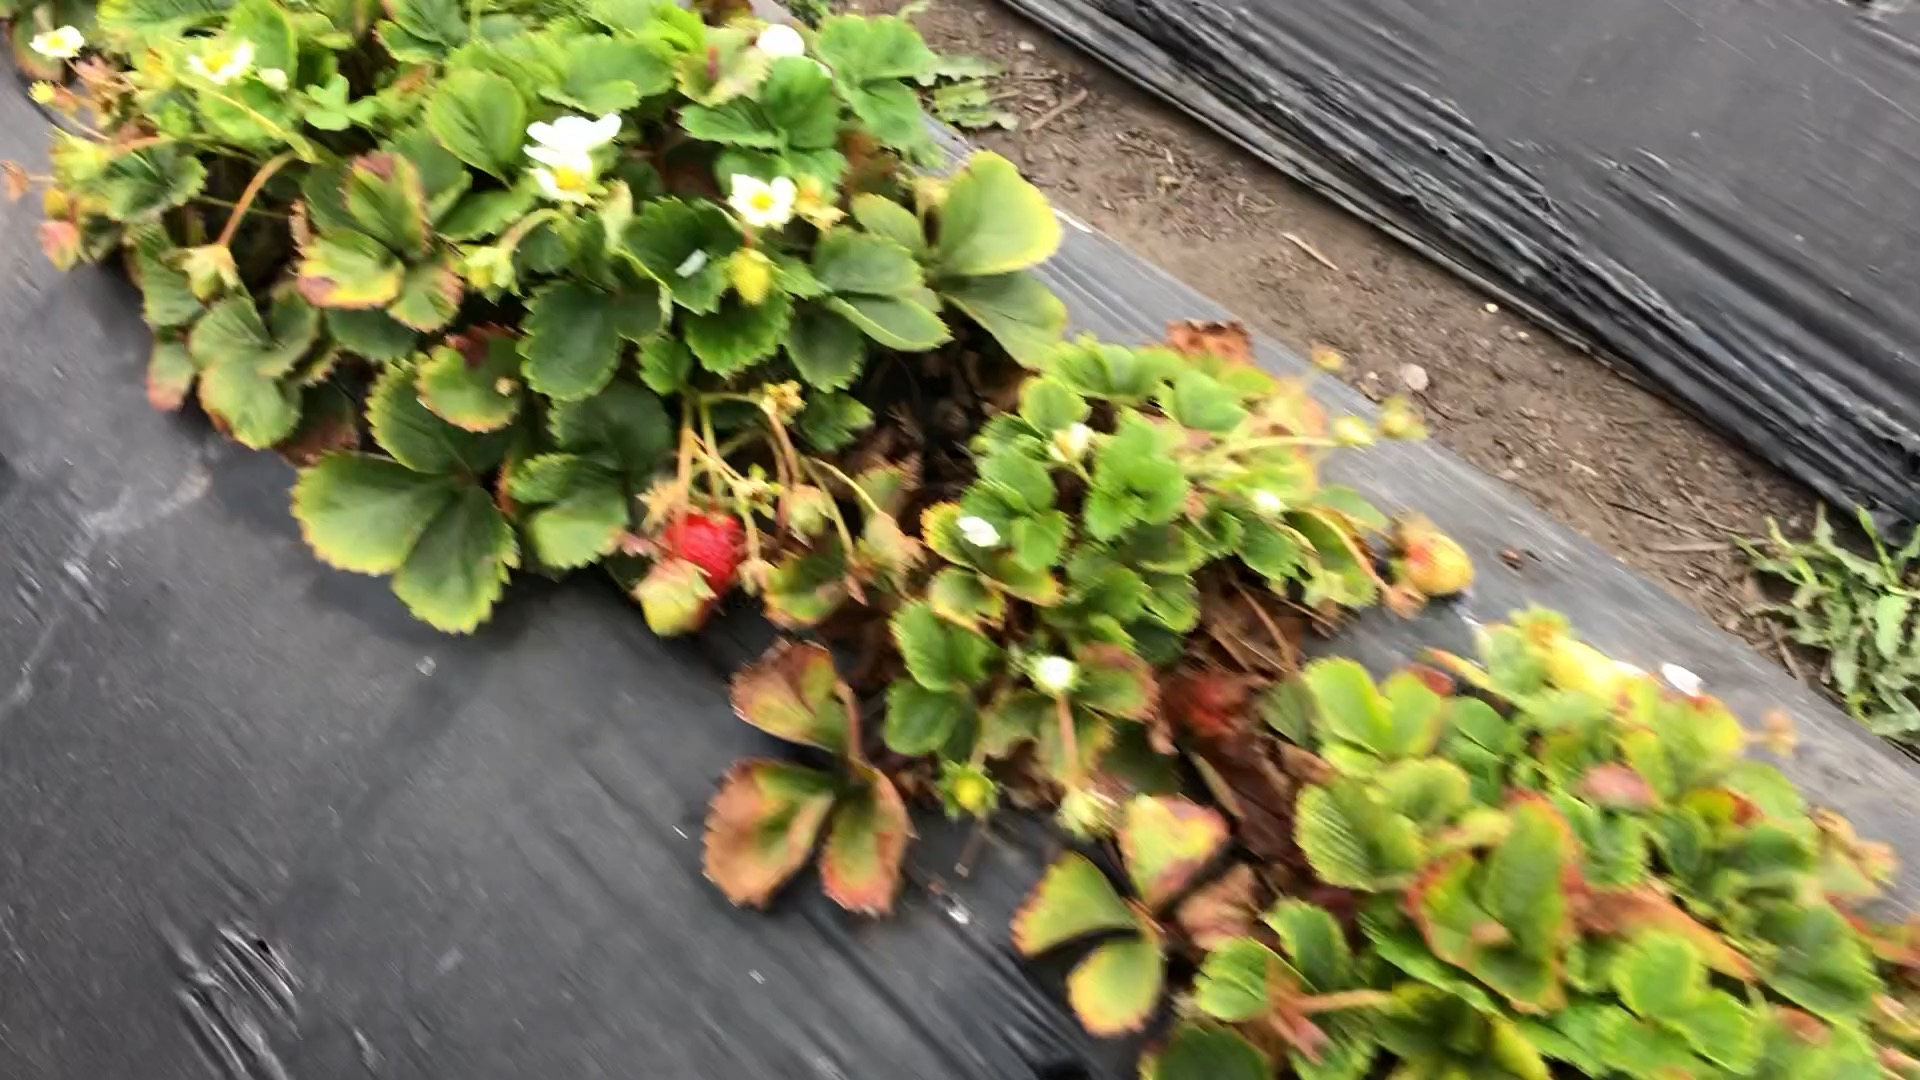ripe_strawberry: (657, 504, 742, 611)
unripe_strawberry: (638, 560, 705, 644)
